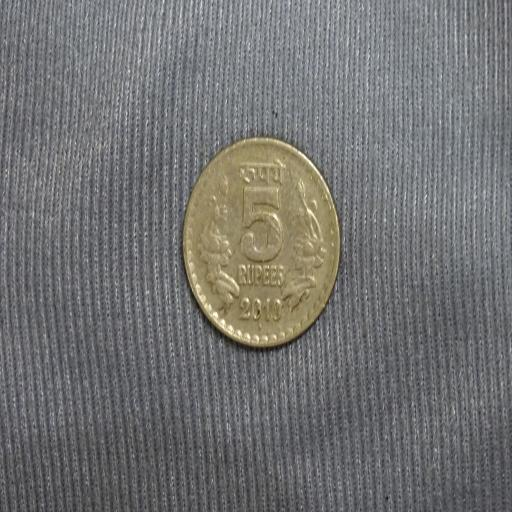rupee5: (180, 138, 342, 344)
